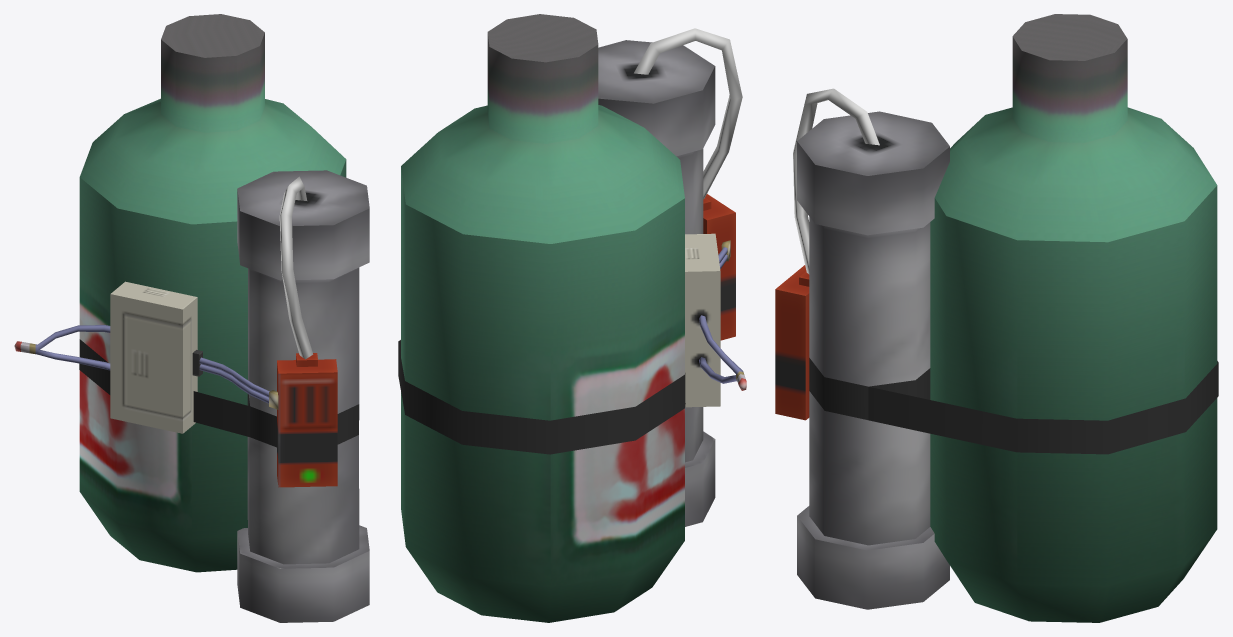
Rendered from MiniPropaneBombSensor_Mesh.fbx.
The picture shows the model from 3 angles, left to right: view 1: azimuth 30°, elevation 25°; view 2: azimuth 150°, elevation 25°; view 3: azimuth 270°, elevation 25°; orthographic projection. The views are drawn at different scales.
Visible parts, largest first — view 1: MiniPropaneBombSensor; view 2: MiniPropaneBombSensor; view 3: MiniPropaneBombSensor.
Part boxes in pixels (x1,y1,x2,y2): MiniPropaneBombSensor: [14, 14, 369, 622]; MiniPropaneBombSensor: [398, 14, 746, 622]; MiniPropaneBombSensor: [775, 14, 1218, 622].
Size of the model in its own units: 26.39 by 40.44 by 30.13.
